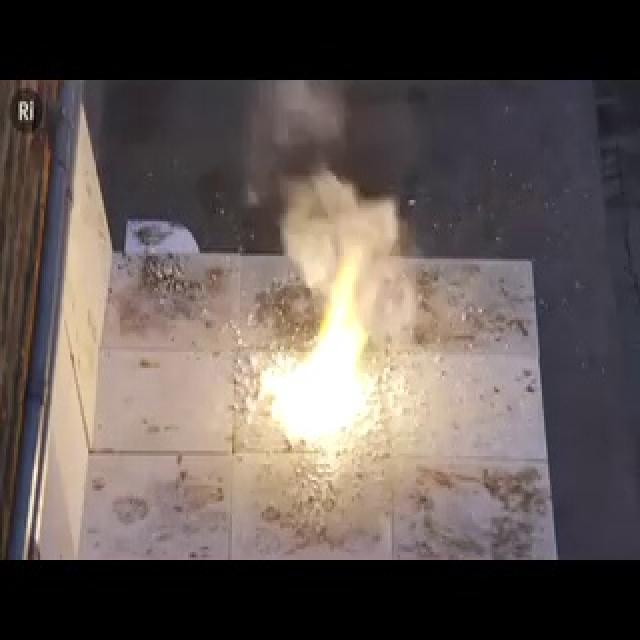fire: (261, 188, 385, 458)
